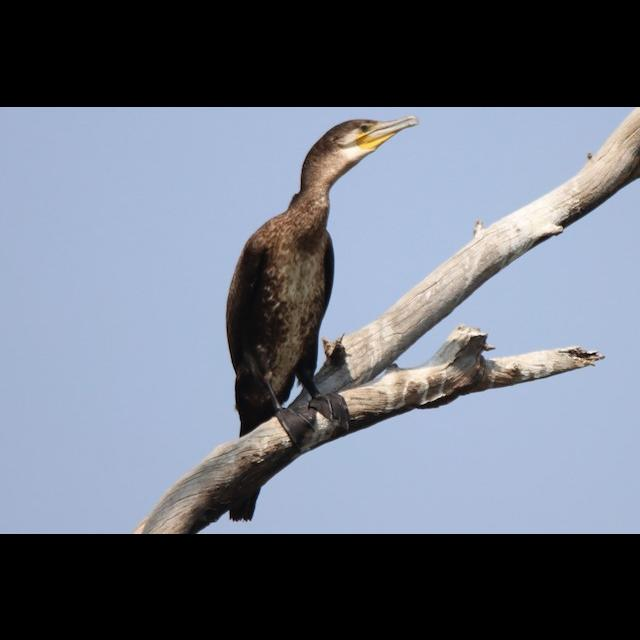cormorant: (223, 116, 424, 420)
